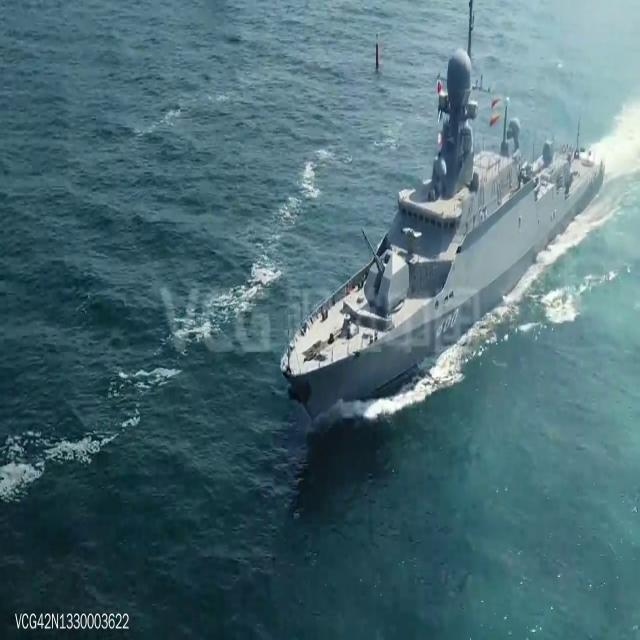navalvessels: (271, 33, 609, 418)
